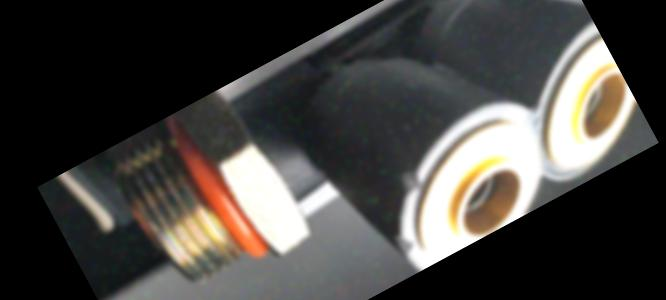bump: (388, 158, 434, 202), (384, 223, 423, 266)
joint line: (289, 159, 318, 180)
white mark: (282, 179, 296, 193)
